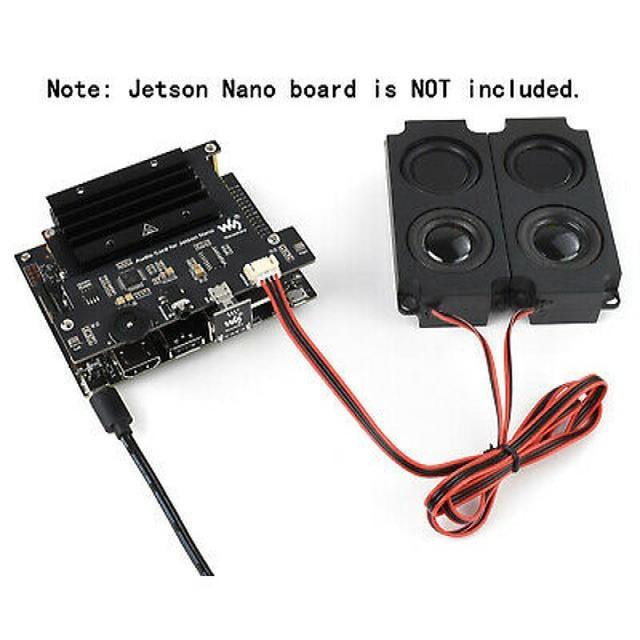Jetson Nano: (14, 139, 317, 398)
